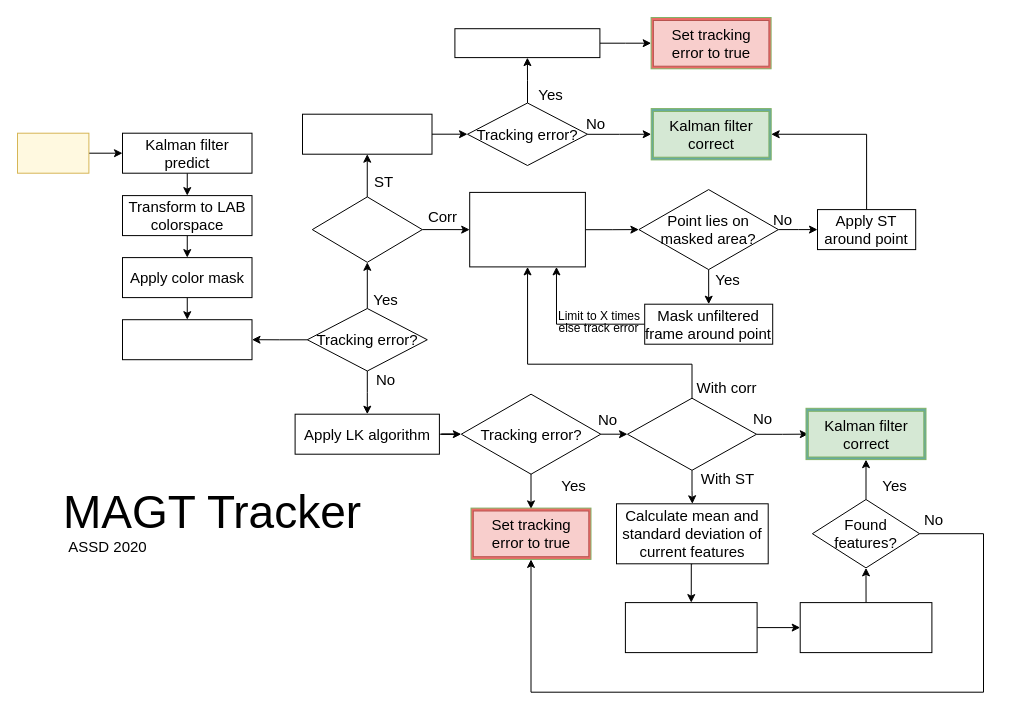
Image size: 1009x718. Some labels were removed from this diagram. Each missing label, with the box of its shape:
Apply ST algorithm around mean: (799, 602, 932, 653)
Apply ST around kalman estimate: (302, 113, 432, 154)
Calculate point of maximum correlation on unfiltered frame: (469, 191, 585, 267)
Enlarge search area: (454, 28, 600, 58)
Get new frame: (16, 132, 89, 173)
Recalculate features?: (626, 397, 756, 470)
Remove outliers and recalculate mean: (624, 602, 757, 653)
Search algorithm?: (311, 196, 422, 262)
Transform to grayscale: (122, 319, 252, 360)
